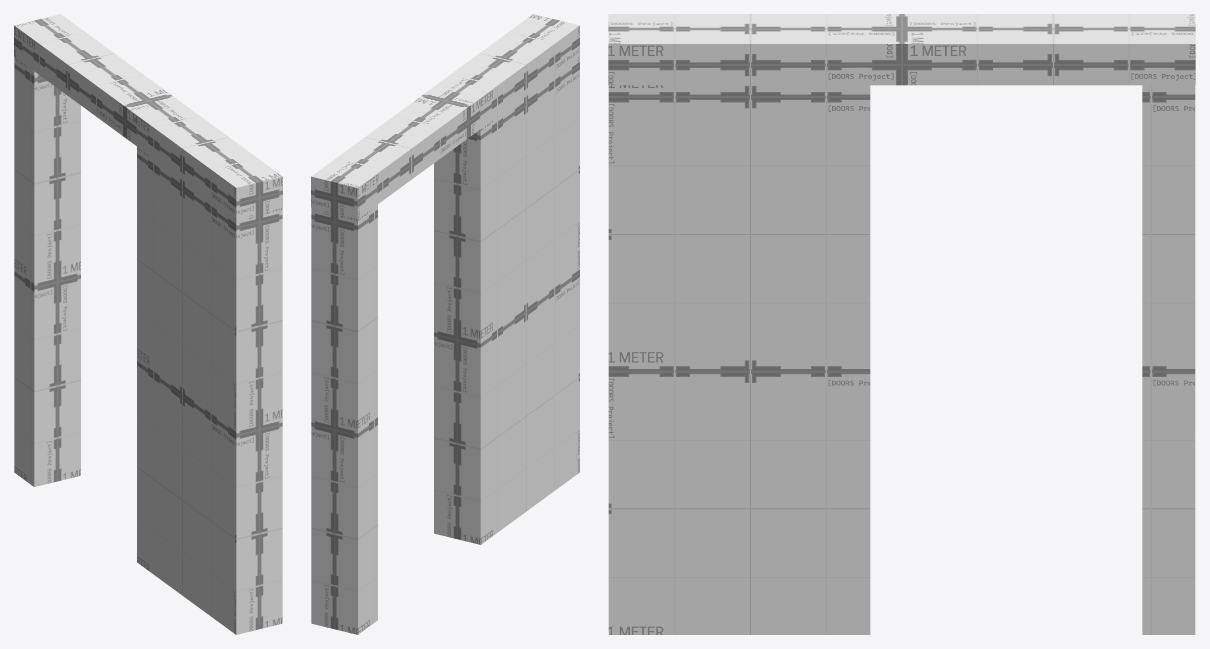
Rendered from SlideLeftFrameModel.obj.
3 renders of one model, left to right at view 1: azimuth 30°, elevation 25°; view 2: azimuth 150°, elevation 25°; view 3: azimuth 270°, elevation 25°, orthographic. The views are drawn at different scales.
Parts seen in each view (by area): view 1: SlideLeftFrame; view 2: SlideLeftFrame; view 3: SlideLeftFrame.
Part boxes in pixels (left/top/right/bottom): SlideLeftFrame: left=14, top=14, right=282, bottom=634; SlideLeftFrame: left=311, top=14, right=579, bottom=634; SlideLeftFrame: left=608, top=14, right=1195, bottom=634.
Bounding box in the file's own units: 0.2351 × 2.15 × 1.94.
